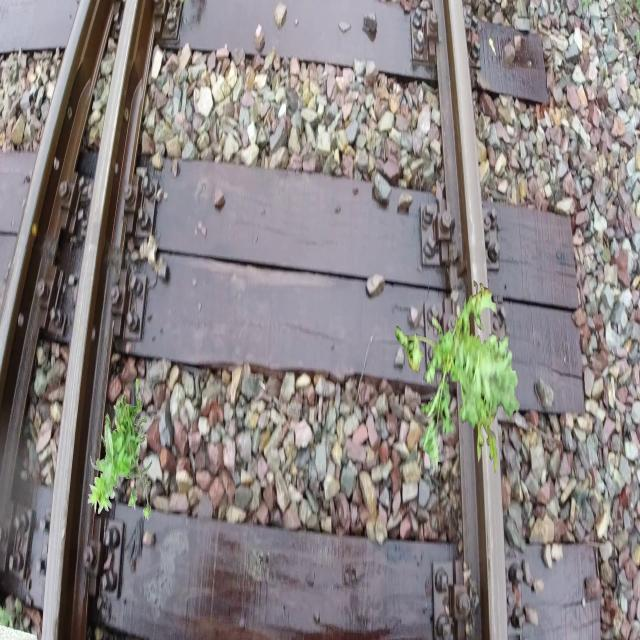Plant: (396, 281, 521, 477), (88, 378, 152, 522)
